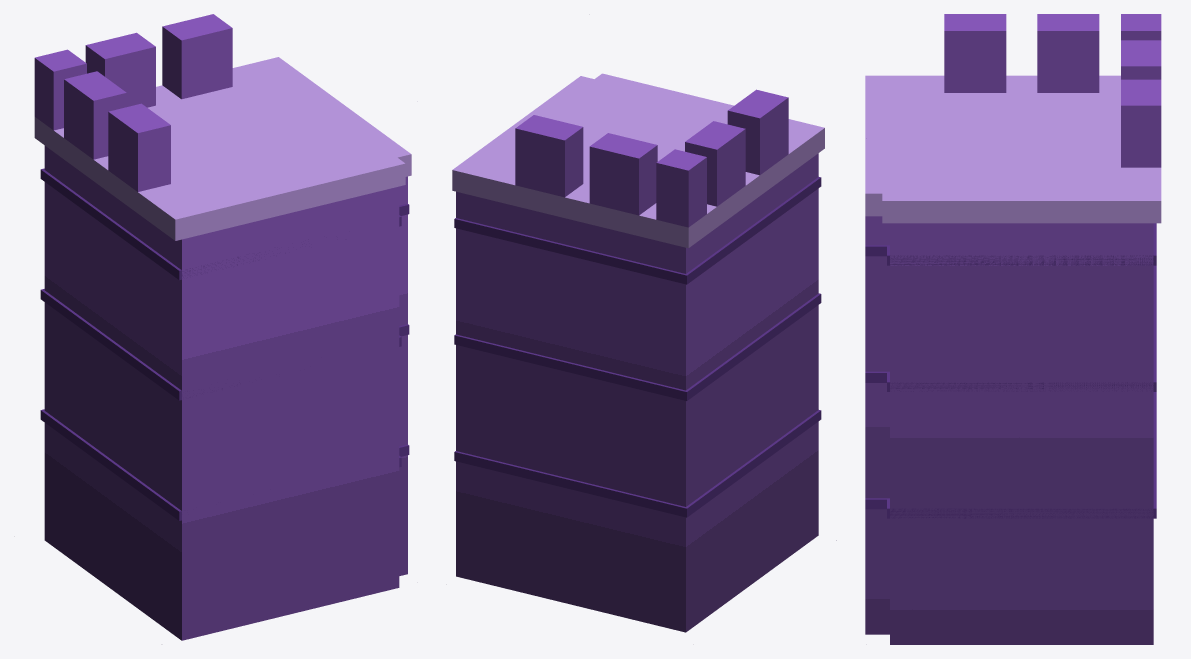
File: perimeter_wall_crystal_corner.glb
3 views of the same model, side by side, from view 1: azimuth 30°, elevation 25°; view 2: azimuth 150°, elevation 25°; view 3: azimuth 270°, elevation 25° (orthographic). The views are drawn at different scales.
Bounding box in the file's own units: 2.01 × 3.6 × 2.01.
Materials: 1 (1 with a texture image).
